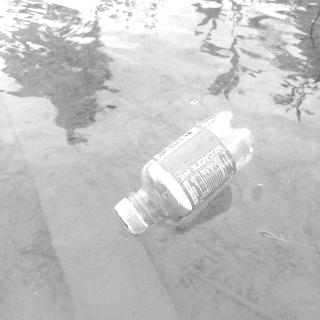bottle: (114, 108, 258, 236)
